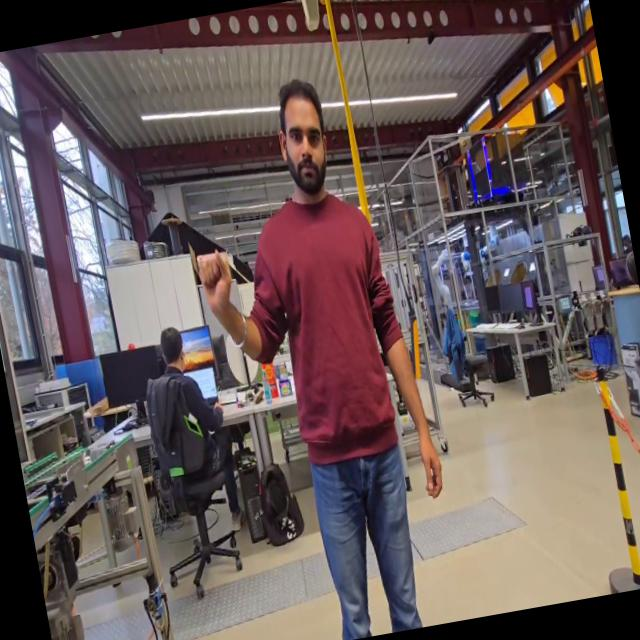closed_fist: (190, 240, 243, 328)
